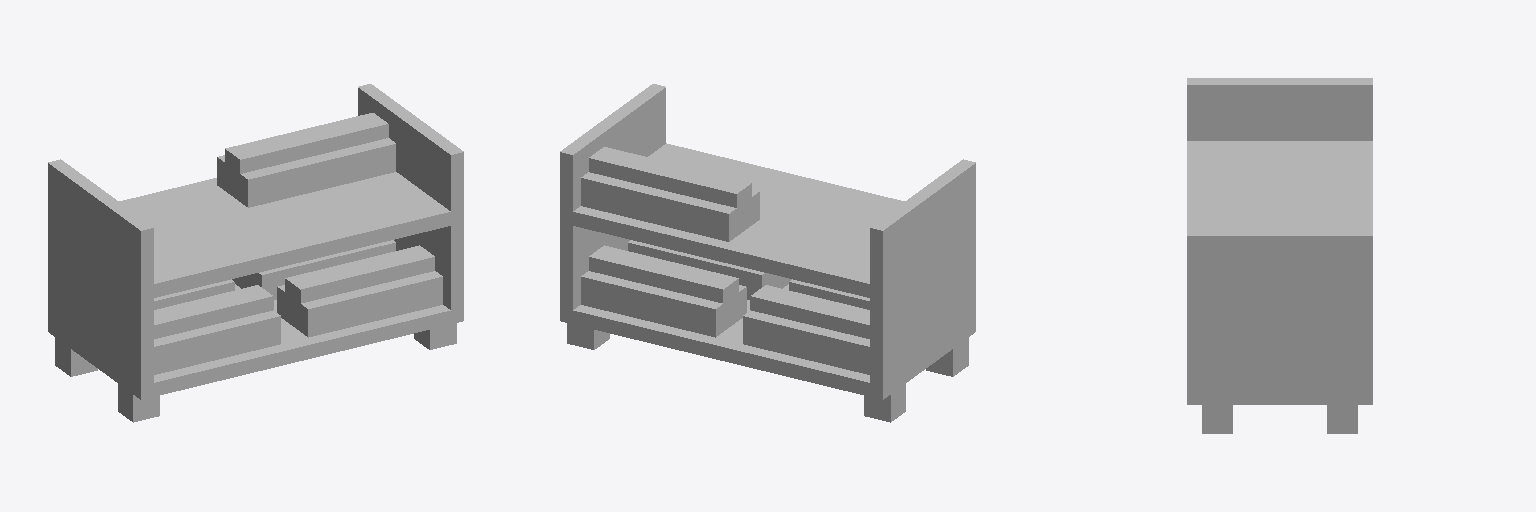
The model's file is Menu Scene 03-38.obj.
3 views of the same model, side by side, from view 1: azimuth 30°, elevation 25°; view 2: azimuth 150°, elevation 25°; view 3: azimuth 270°, elevation 25° (orthographic).
Visible parts, largest first — view 1: Menu Scene 03-38; view 2: Menu Scene 03-38; view 3: Menu Scene 03-38.
Boxes of the visible parts, box(x1,y1,x2,y2) form: Menu Scene 03-38: box(48, 84, 463, 422); Menu Scene 03-38: box(560, 84, 975, 422); Menu Scene 03-38: box(1187, 78, 1372, 433).
Bounding box in the file's own units: 24 × 14 × 12.